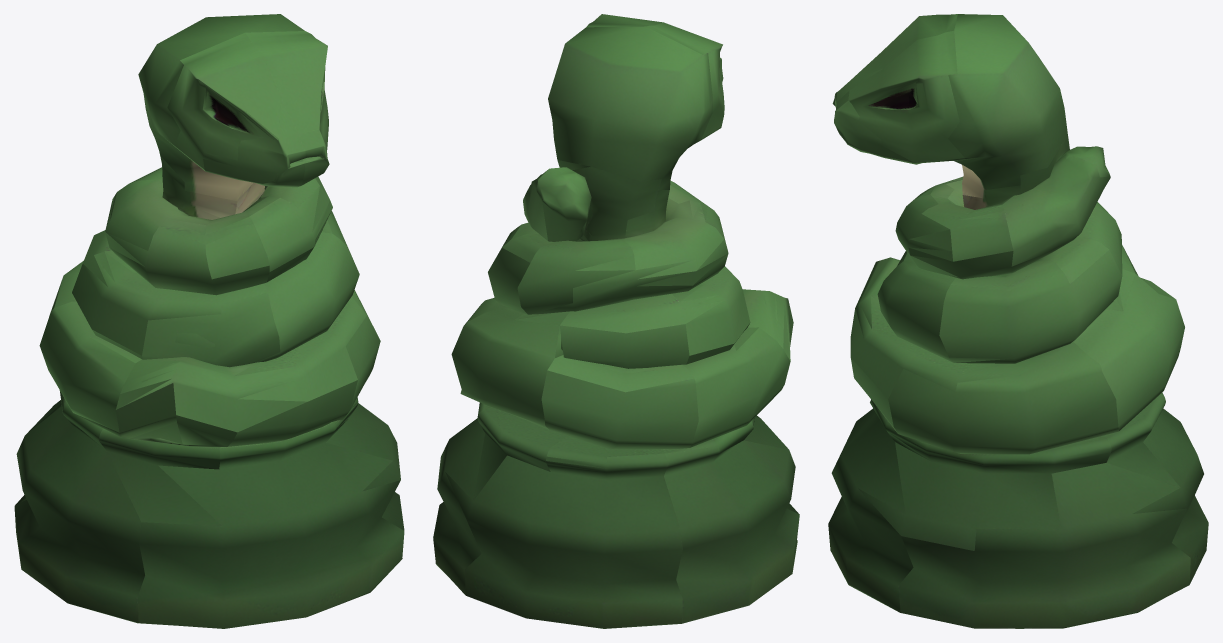
The model's file is Meshy_AI_Emerald_Coil_0726152911_texture.glb.
The picture shows the model from 3 angles, left to right: view 1: azimuth 30°, elevation 25°; view 2: azimuth 150°, elevation 25°; view 3: azimuth 270°, elevation 25°; orthographic projection. The views are drawn at different scales.
Visible parts, largest first — view 1: mesh_node; view 2: mesh_node; view 3: mesh_node.
Part boxes in pixels (x1,y1,x2,y2): mesh_node: [14, 14, 404, 628]; mesh_node: [433, 14, 799, 628]; mesh_node: [828, 14, 1208, 628].
Size of the model in its own units: 0.6504 by 1 by 0.6621.
Materials: 1 (1 with a texture image).
